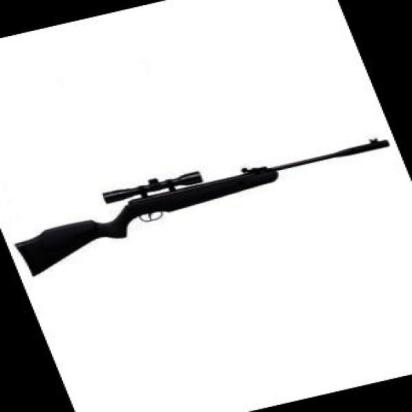Gun: (1, 136, 397, 263)
